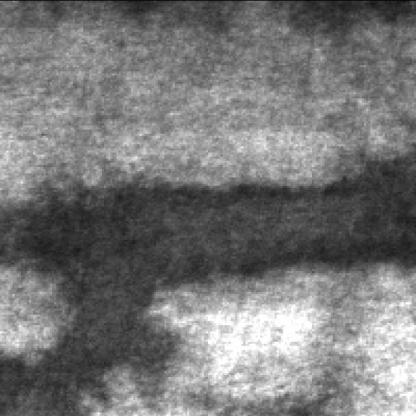patches: (0, 148, 412, 298), (0, 301, 170, 414)
